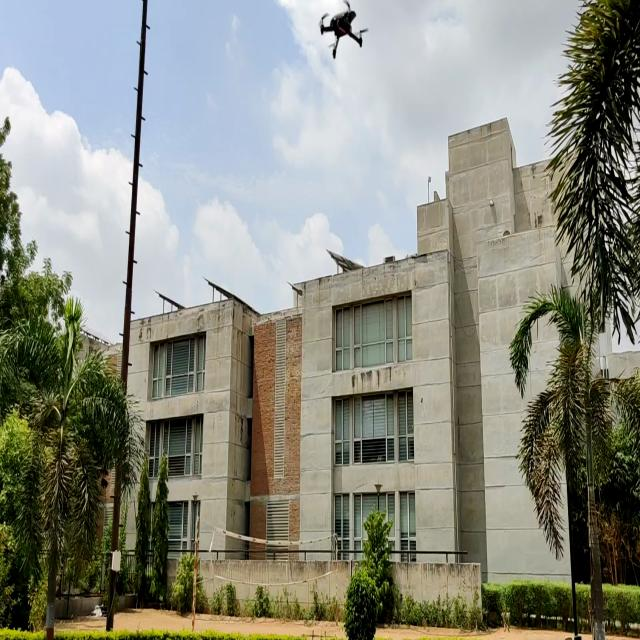drone: (307, 0, 376, 66)
